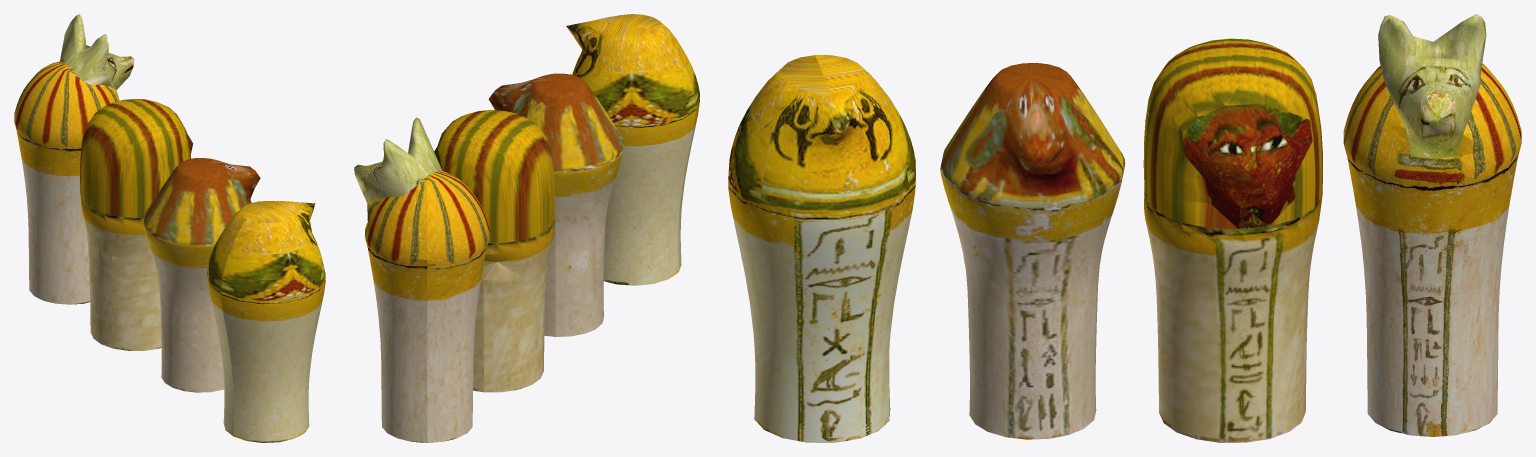
File: canope.FBX
3 views of the same model, side by side, from view 1: azimuth 30°, elevation 25°; view 2: azimuth 150°, elevation 25°; view 3: azimuth 270°, elevation 25° (orthographic). The views are drawn at different scales.
Parts seen in each view (by area): view 1: duacanope; view 2: duacanope; view 3: duacanope.
Part boxes in pixels (<box>): duacanope: <box>14,14,325,442</box>; duacanope: <box>354,14,699,442</box>; duacanope: <box>728,14,1521,442</box>.
Bounding box in the file's own units: 4688 × 10189 × 17678.
